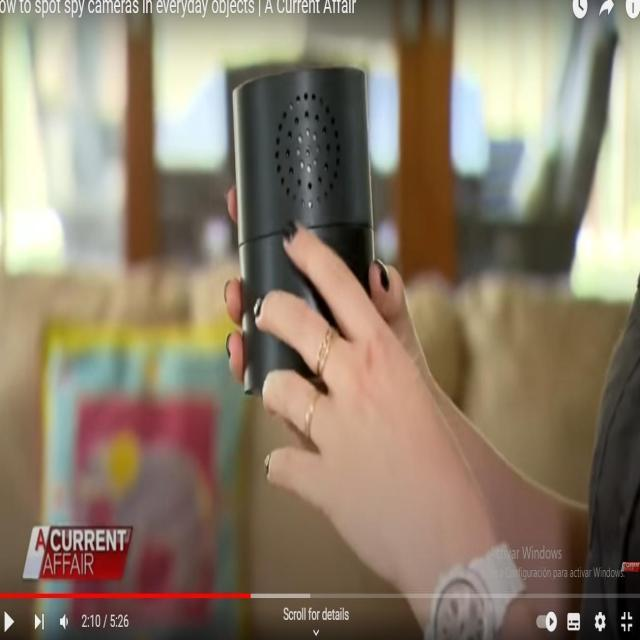hidden camera: (299, 138, 318, 168)
